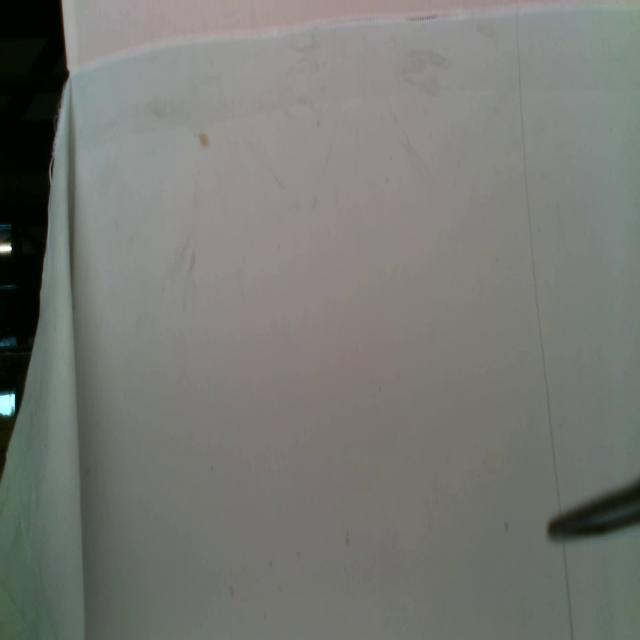crease: (514, 3, 562, 504), (561, 543, 575, 640)
